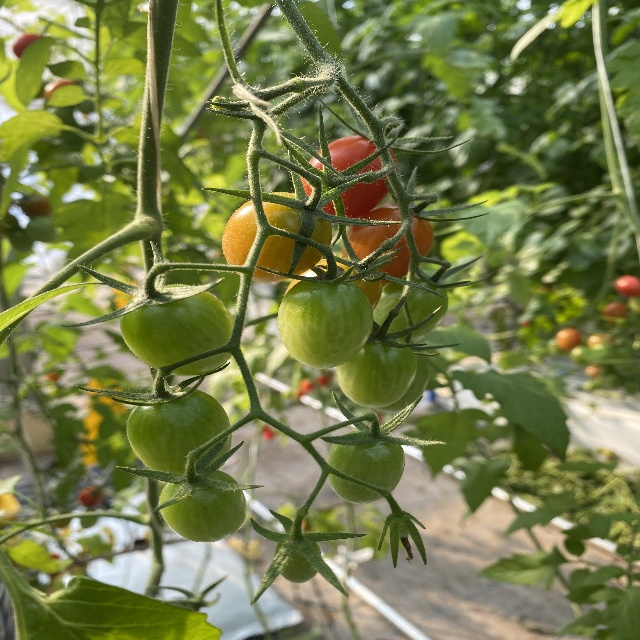l_fully_ripened: (297, 135, 400, 223)
l_green: (119, 284, 237, 377), (125, 387, 232, 481), (278, 275, 375, 370), (159, 470, 248, 543), (338, 332, 416, 408), (326, 430, 405, 504), (371, 277, 450, 342), (370, 343, 430, 412), (274, 537, 322, 583)
l_half_ripened: (221, 191, 334, 283), (343, 206, 433, 284), (284, 259, 383, 312)
